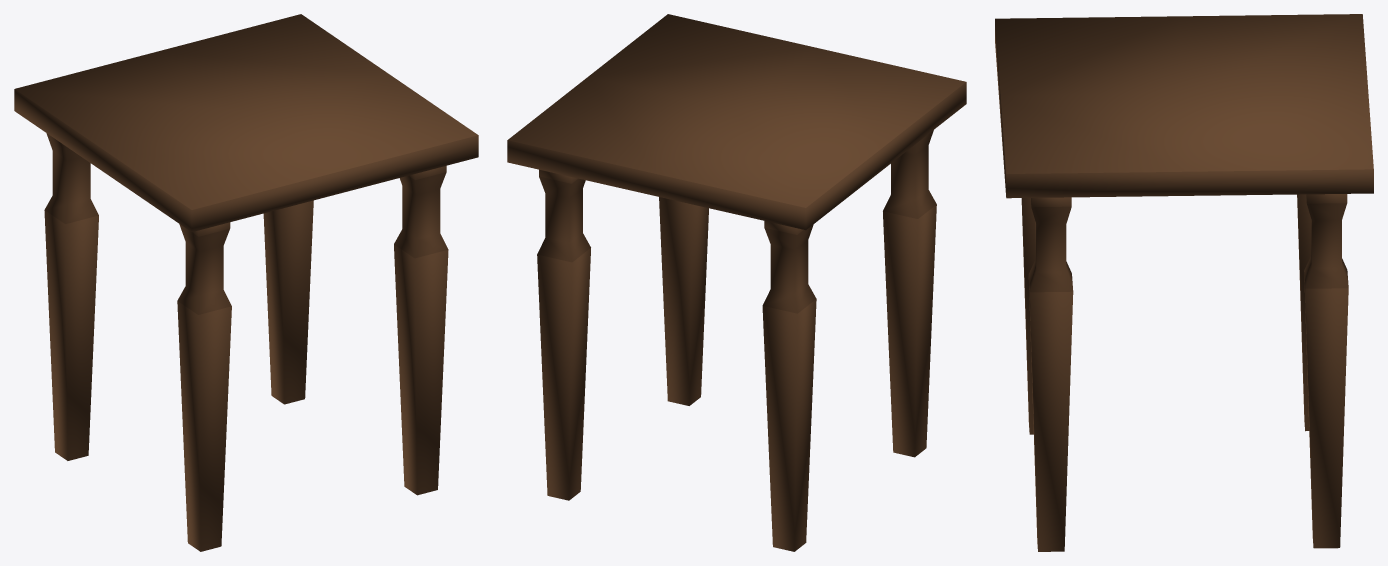
File: Styul.fbx
3 renders of one model, left to right at view 1: azimuth 30°, elevation 25°; view 2: azimuth 150°, elevation 25°; view 3: azimuth 270°, elevation 25°, orthographic. The views are drawn at different scales.
Parts seen in each view (by area): view 1: Cube.012; view 2: Cube.012; view 3: Cube.012.
Part boxes in pixels (left/top/right/bottom): Cube.012: left=14, top=14, right=478, bottom=551; Cube.012: left=507, top=14, right=966, bottom=551; Cube.012: left=995, top=14, right=1373, bottom=551.
Bounding box in the file's own units: 17.08 × 17.08 × 19.5.
